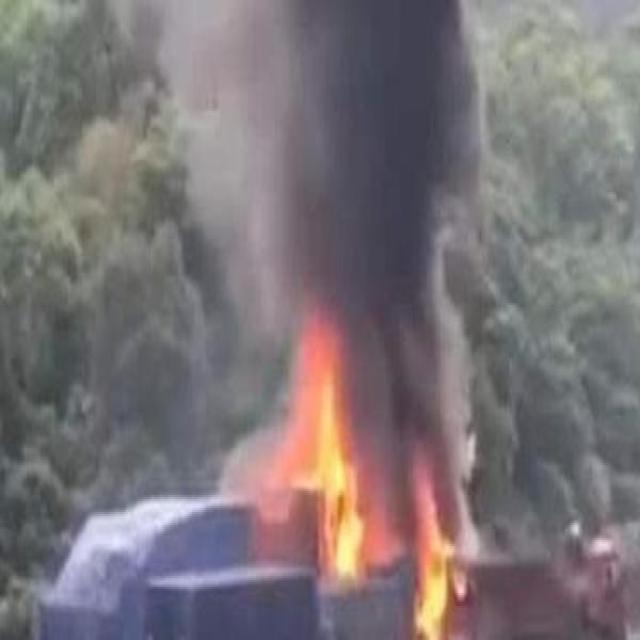Fire: (272, 370, 478, 640)
Smoke: (108, 0, 550, 368)
